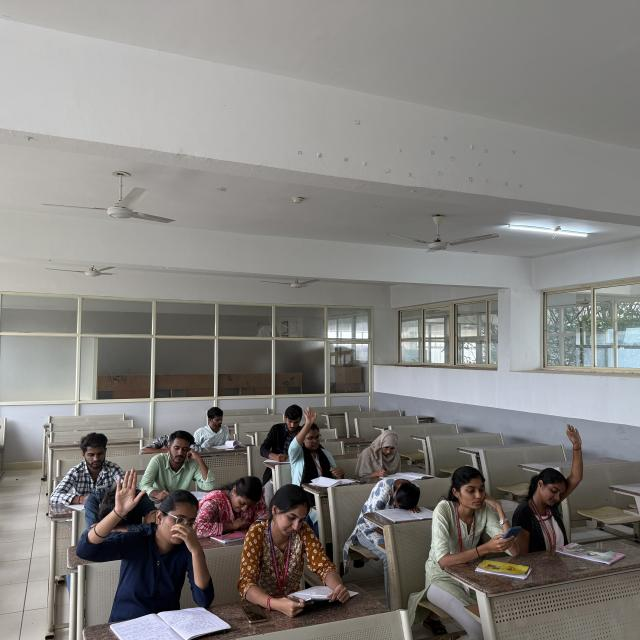Hand Rising: (87, 463, 220, 607), (514, 423, 592, 540), (288, 406, 344, 482)
Reading: (243, 481, 349, 609), (192, 404, 245, 454)
Sleeping: (365, 468, 429, 515), (138, 424, 182, 456)
Using Phone: (436, 466, 528, 560), (53, 435, 133, 529)
Writing: (259, 405, 307, 468), (355, 427, 408, 480)
